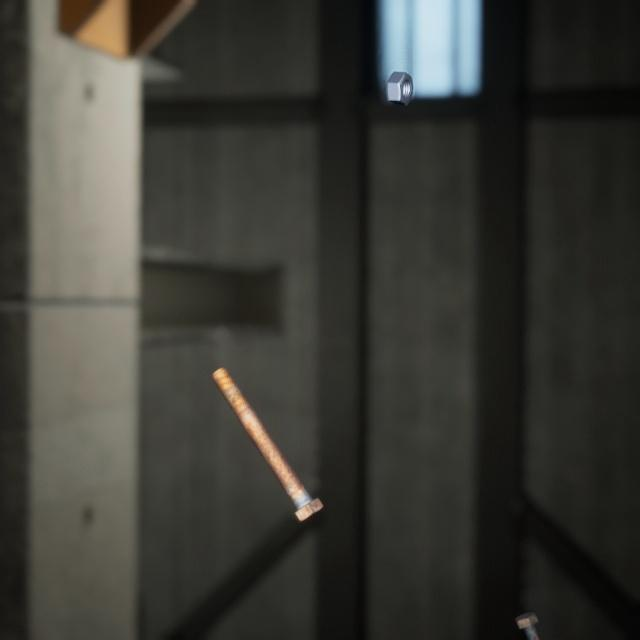bolt: (207, 341, 328, 506), (509, 583, 552, 640)
nut: (382, 56, 417, 99)
